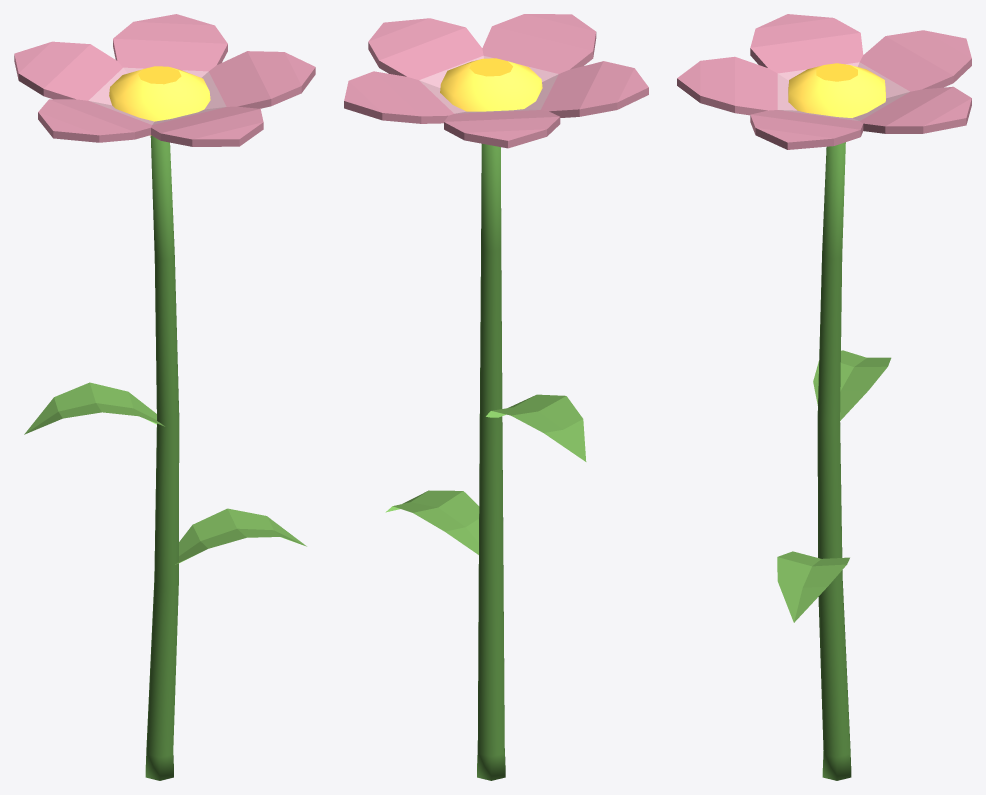
The model's file is meadow-flower.glb.
3 renders of one model, left to right at view 1: azimuth 30°, elevation 25°; view 2: azimuth 150°, elevation 25°; view 3: azimuth 270°, elevation 25°, orthographic.
Visible parts, largest first — view 1: meadow-flower; view 2: meadow-flower; view 3: meadow-flower.
Part boxes in pixels (box(x1,y1,x2,y2)): meadow-flower: box(14, 14, 315, 780); meadow-flower: box(344, 14, 648, 780); meadow-flower: box(677, 14, 971, 780).
Bounding box in the file's own units: 11.79 × 30 × 11.43.
